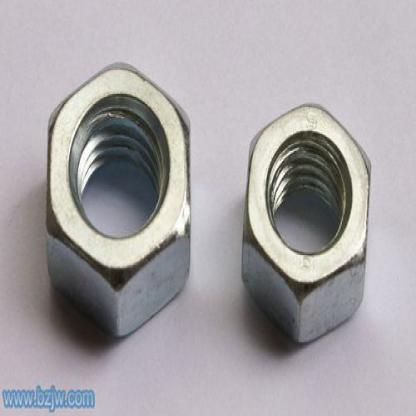FOD: (45, 59, 194, 338), (238, 98, 375, 349)
